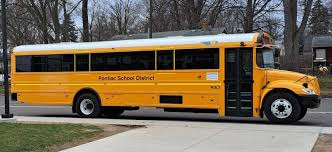bus: (10, 28, 322, 123)
